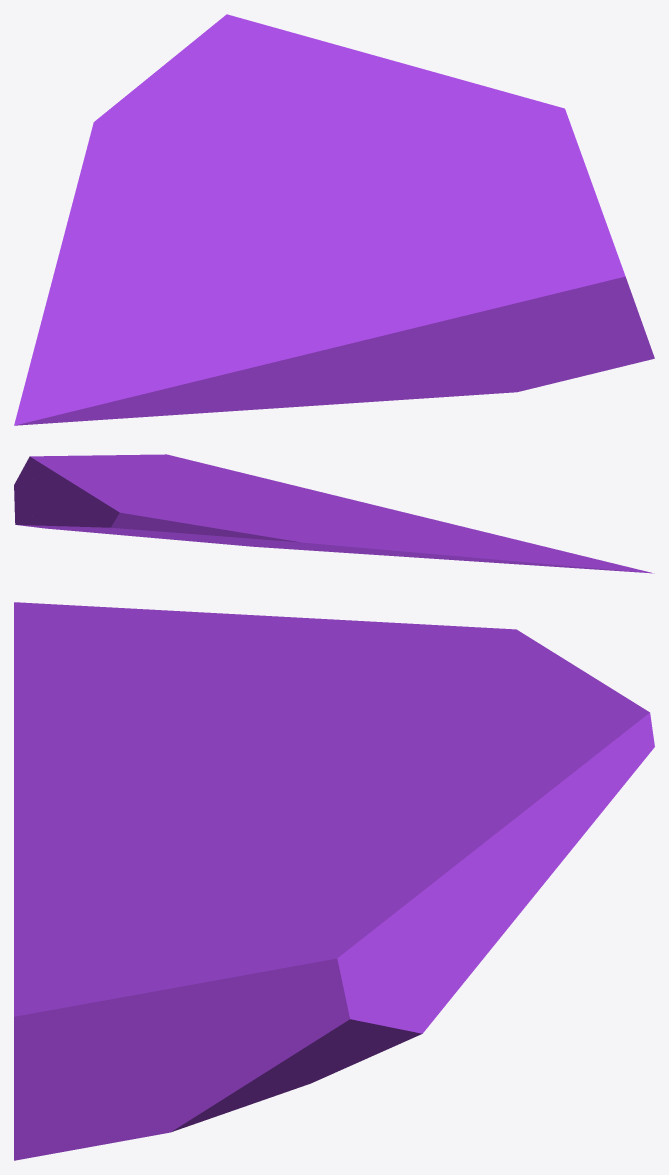
The model's file is Window_151_3_chunks.fbx.
3 renders of one model, top to bottom at view 1: azimuth 30°, elevation 25°; view 2: azimuth 150°, elevation 25°; view 3: azimuth 270°, elevation 25°, orthographic. The views are drawn at different scales.
Visible parts, largest first — view 1: Window_151_3_1, Window_151_3_2, Window_151_3_3, Window_151_3_6, Window_151_3_9, Window_151_3_5, Window_151_3_4, Window_151_3_8, Window_151_3_7, Window_151_3_0; view 2: Window_151_3_2, Window_151_3_3, Window_151_3_1, Window_151_3_6, Window_151_3_0, Window_151_3_9, Window_151_3_5, Window_151_3_4, Window_151_3_7, Window_151_3_8; view 3: Window_151_3_2, Window_151_3_1, Window_151_3_3, Window_151_3_0, Window_151_3_6, Window_151_3_5, Window_151_3_9, Window_151_3_4, Window_151_3_7.
Boxes of the visible parts, x1,y1,x2,y2 form: Window_151_3_1: [408, 139, 654, 394]; Window_151_3_2: [105, 14, 546, 184]; Window_151_3_3: [14, 113, 241, 425]; Window_151_3_6: [51, 260, 344, 423]; Window_151_3_9: [322, 231, 485, 400]; Window_151_3_5: [183, 146, 337, 306]; Window_151_3_4: [241, 145, 415, 236]; Window_151_3_8: [226, 353, 397, 411]; Window_151_3_7: [270, 224, 384, 276]; Window_151_3_0: [522, 103, 578, 147]; Window_151_3_2: [32, 459, 286, 541]; Window_151_3_3: [233, 517, 654, 573]; Window_151_3_1: [62, 454, 322, 548]; Window_151_3_6: [334, 509, 621, 571]; Window_151_3_0: [14, 456, 182, 539]; Window_151_3_9: [207, 490, 389, 552]; Window_151_3_5: [246, 504, 439, 536]; Window_151_3_4: [157, 489, 274, 544]; Window_151_3_7: [232, 495, 362, 551]; Window_151_3_8: [322, 549, 484, 562]; Window_151_3_2: [270, 636, 654, 981]; Window_151_3_1: [14, 855, 301, 1160]; Window_151_3_3: [14, 602, 527, 735]; Window_151_3_0: [59, 931, 464, 1152]; Window_151_3_6: [14, 628, 195, 826]; Window_151_3_5: [151, 710, 409, 809]; Window_151_3_9: [14, 804, 196, 882]; Window_151_3_4: [176, 735, 411, 865]; Window_151_3_7: [145, 766, 230, 843].
Bounding box in the file's own units: 801 × 253 × 469.
